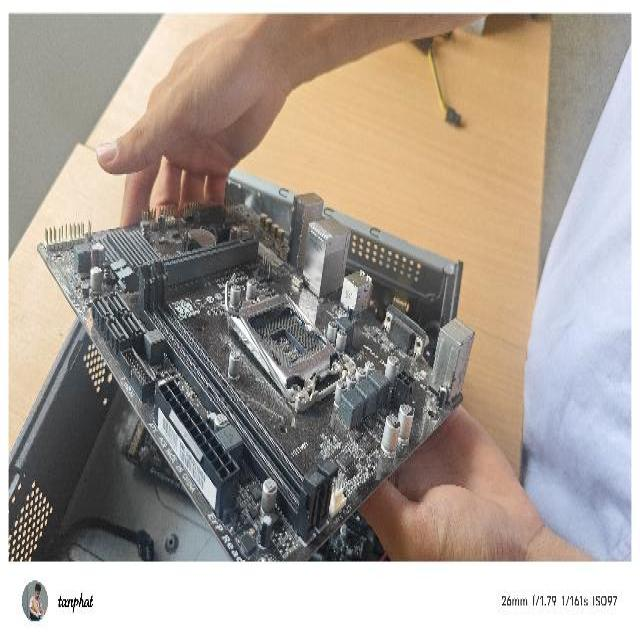Mainboard: (28, 179, 489, 563)
